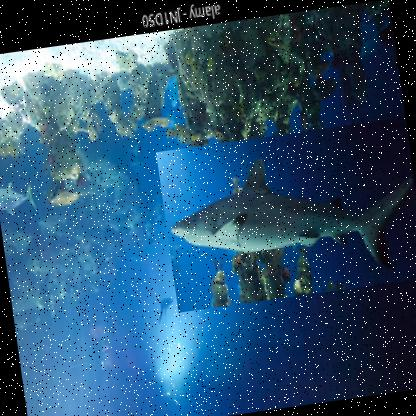zebra_shark: (154, 116, 415, 313)
